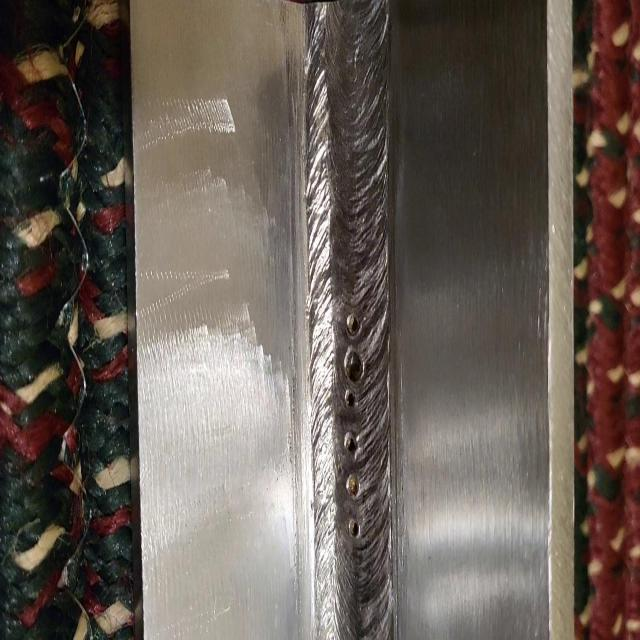Welding Line: (308, 9, 398, 640)
Workpiece: (132, 6, 572, 640)
porosity: (341, 311, 367, 504)
